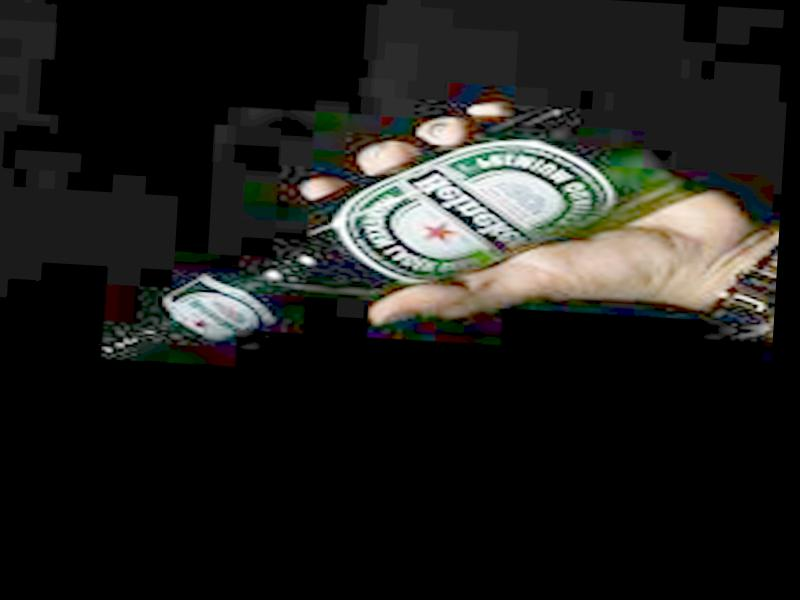Beer: (77, 70, 712, 399)
